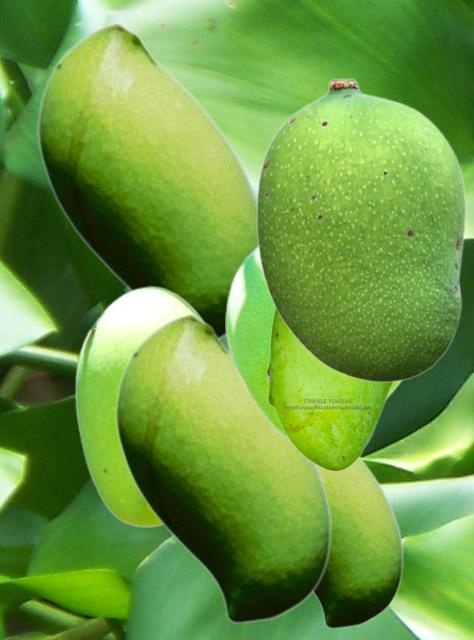green_mango: (36, 21, 256, 341), (114, 312, 330, 623), (255, 77, 465, 382), (225, 243, 403, 447), (74, 285, 206, 526), (265, 309, 394, 471), (313, 457, 402, 628)
